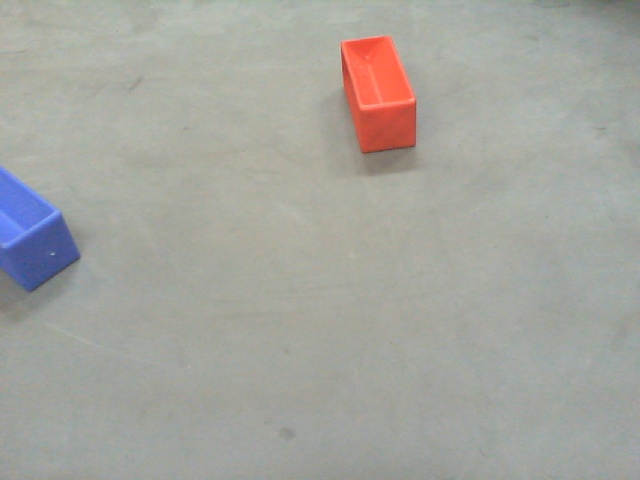BlueSample: (1, 162, 85, 291)
RedSample: (334, 32, 423, 158)
